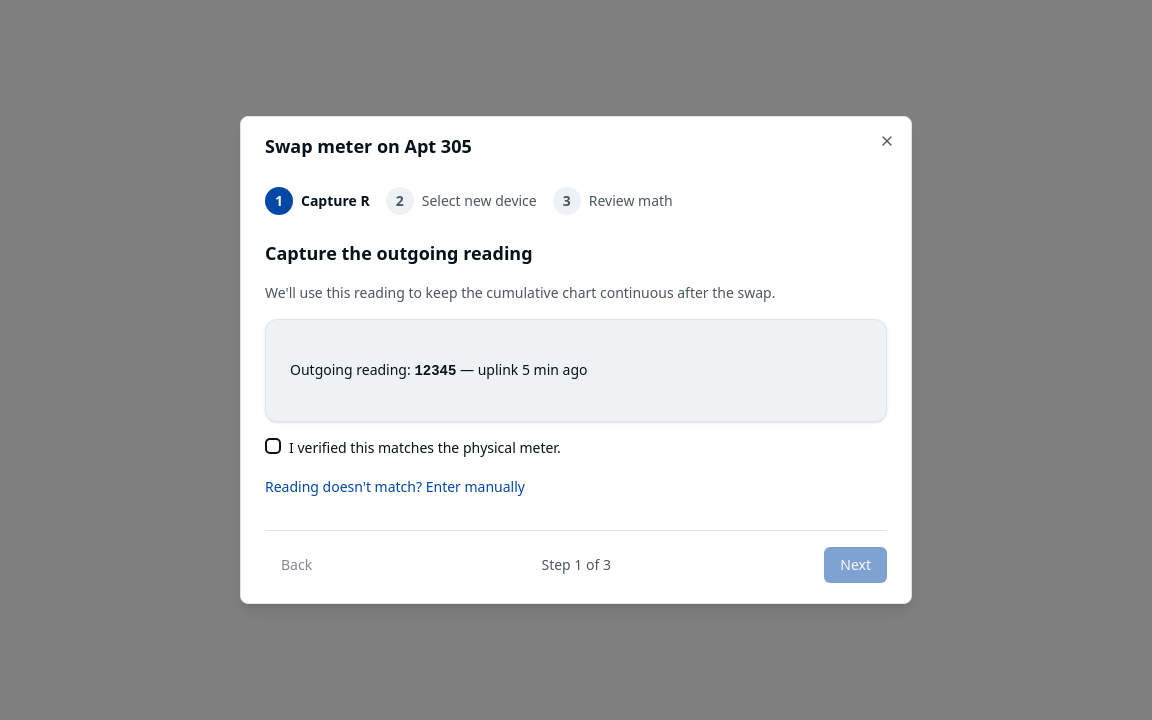
Scenario: SwapMeterDialog (Plan 02-14 / D-12 + D-13 + D-14) › verify checkbox is required to advance from step 1
Expected: the text "Outgoing reading: 12345 — uplink 5 min ago" is shown, [290,360,588,379]
Expected: the button "Next" is disabled, [824,547,887,583]
Click the checkbox named "I verified this matches the physical meter". click: click(273, 446)
box: [265,438,281,454]
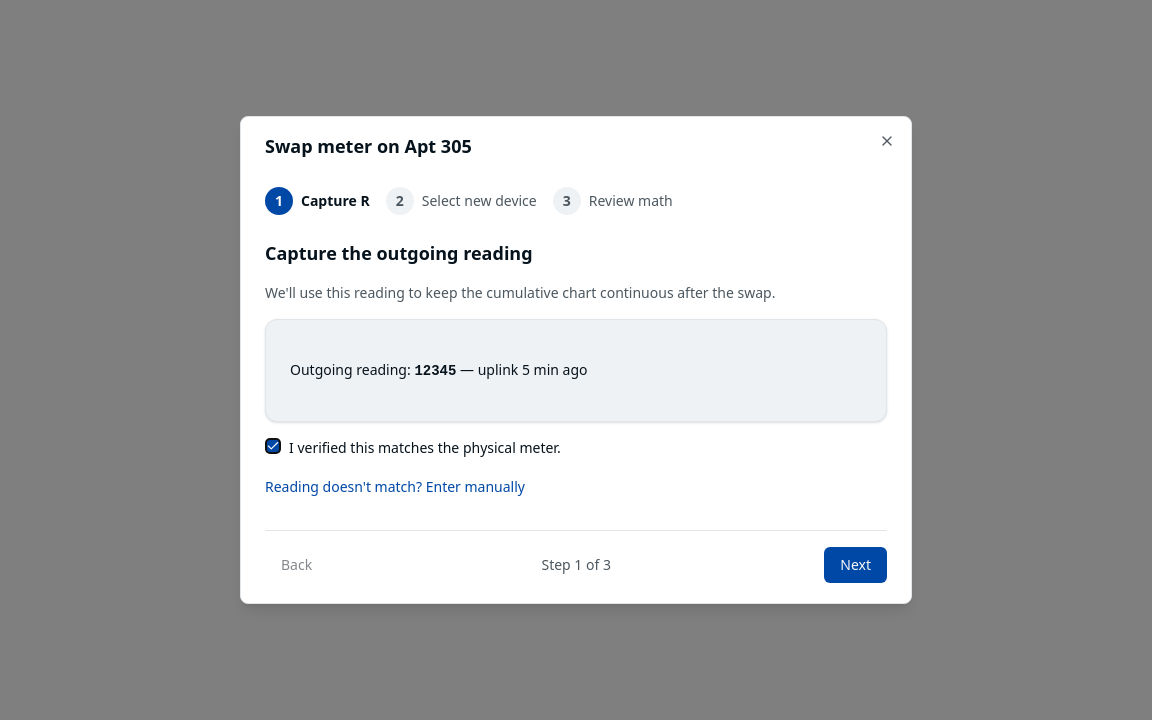
Expected: the button "Next" is enabled, [824,547,887,583]
